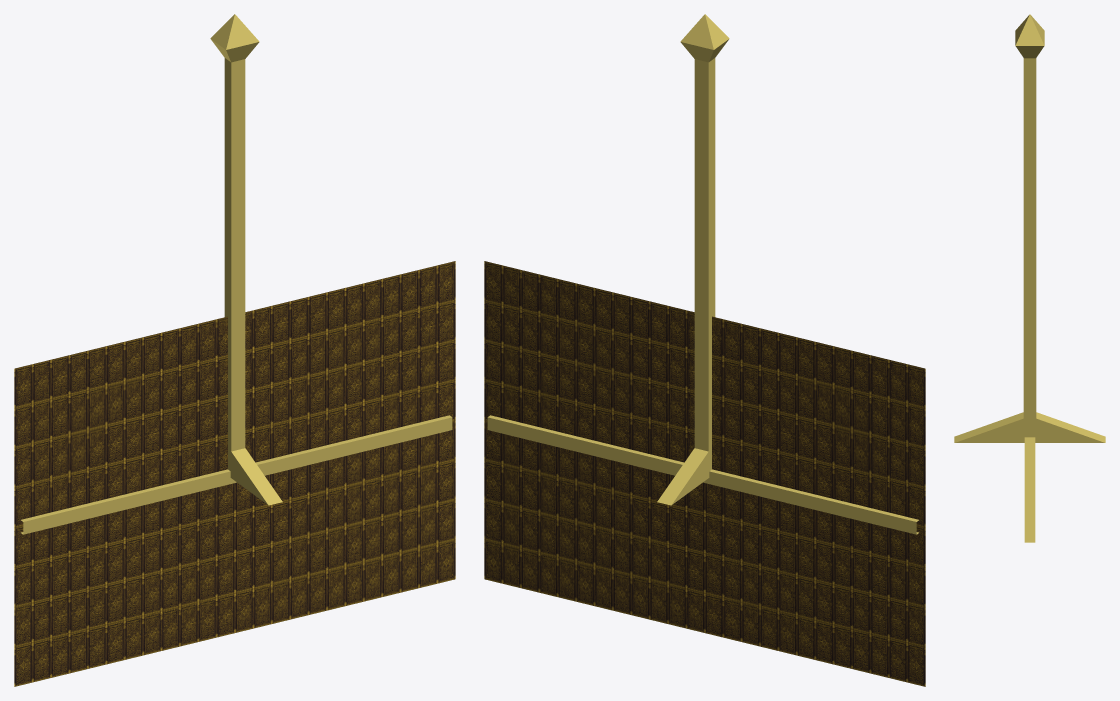
Rendered from 4435wall_r.gltf.
3 renders of one model, left to right at view 1: azimuth 30°, elevation 25°; view 2: azimuth 150°, elevation 25°; view 3: azimuth 270°, elevation 25°, orthographic. The views are drawn at different scales.
Parts seen in each view (by area): view 1: 4435wall_r; view 2: 4435wall_r; view 3: 4435wall_r.
Part boxes in pixels (x1=…): 4435wall_r: x1=14, y1=14, x2=455, y2=686; 4435wall_r: x1=484, y1=14, x2=925, y2=686; 4435wall_r: x1=954, y1=14, x2=1105, y2=542.
Size of the model in its own units: 1.83 by 2.45 by 0.5869.
2 materials, 1 textured.
